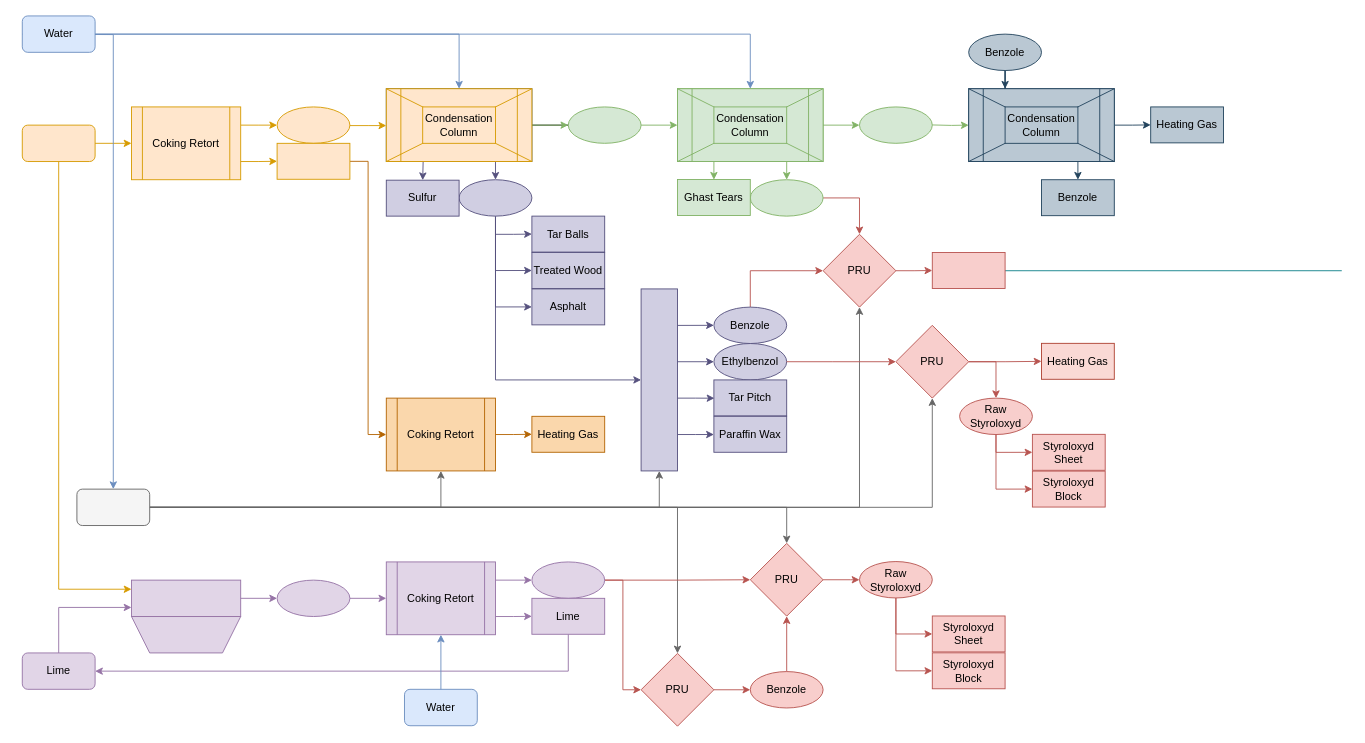
The diagram is 1365 pixels wide and 743 high, and some of its shapes have lost their labels. The box of each missing label's shape, as (x1, y1, x2, y2) in pixels:
Ammoniacal Gas: (567, 106, 641, 143)
Ammoniacal Liqour: (749, 179, 823, 216)
Aniline: (931, 252, 1005, 288)
Arc Furnace: (131, 579, 241, 617)
Calcium Carbide: (276, 579, 350, 617)
Carburet of Hydrogen: (531, 561, 605, 598)
Coal: (21, 124, 95, 162)
Coal Coke: (276, 142, 350, 179)
Coal Tar: (458, 179, 532, 216)
Lighting Gas: (859, 106, 932, 143)
Process Steam: (76, 488, 150, 526)
Retort Gas: (276, 106, 350, 143)
Steam Distillation Column: (640, 288, 677, 471)
